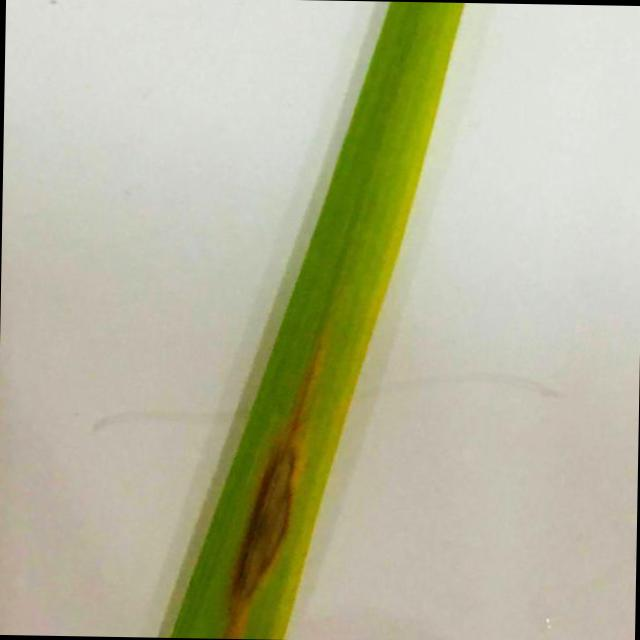Rice_Blast: (221, 394, 300, 628)
